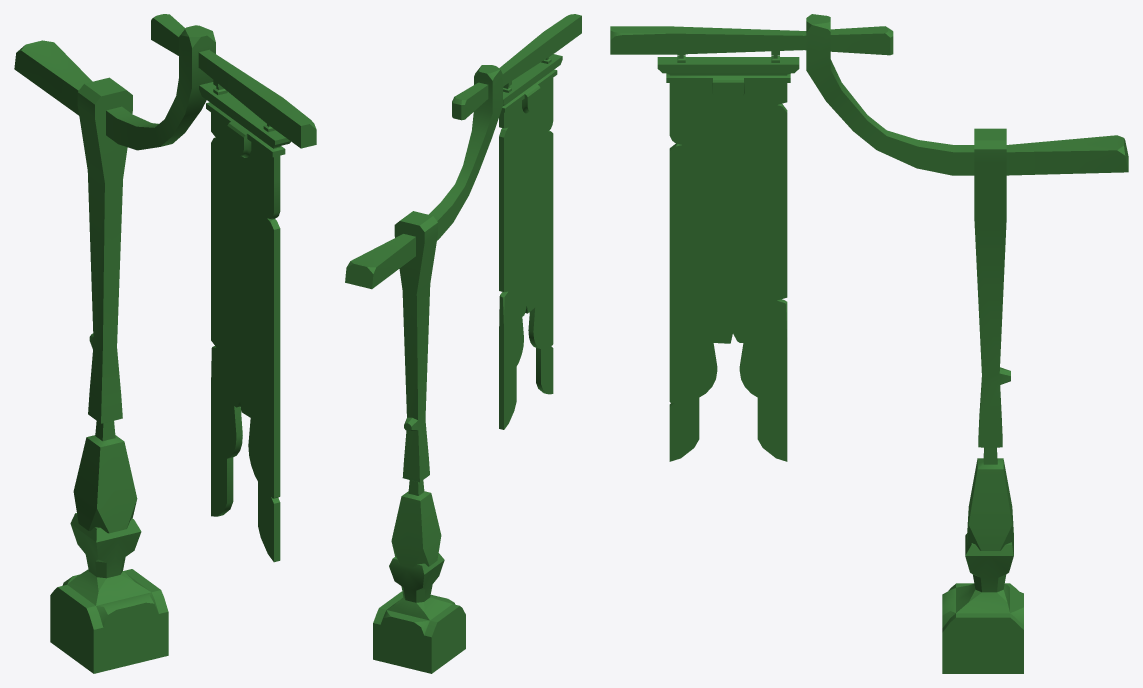
File: OBJ_FLAG_A_01.FBX
The picture shows the model from 3 angles, left to right: view 1: azimuth 30°, elevation 25°; view 2: azimuth 150°, elevation 25°; view 3: azimuth 270°, elevation 25°; orthographic projection. The views are drawn at different scales.
Parts seen in each view (by area): view 1: OBJ_FLAG_A_01; view 2: OBJ_FLAG_A_01; view 3: OBJ_FLAG_A_01.
Boxes of the visible parts, x1,y1,x2,y2 form: OBJ_FLAG_A_01: (14, 14, 316, 673); OBJ_FLAG_A_01: (345, 14, 581, 673); OBJ_FLAG_A_01: (610, 14, 1128, 673).
Size of the model in its own units: 3.49 by 30.48 by 22.45.
